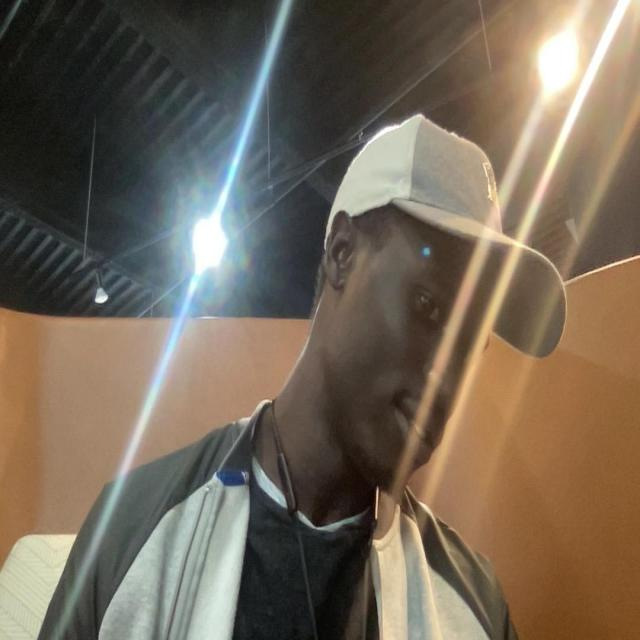face: (316, 206, 496, 489)
